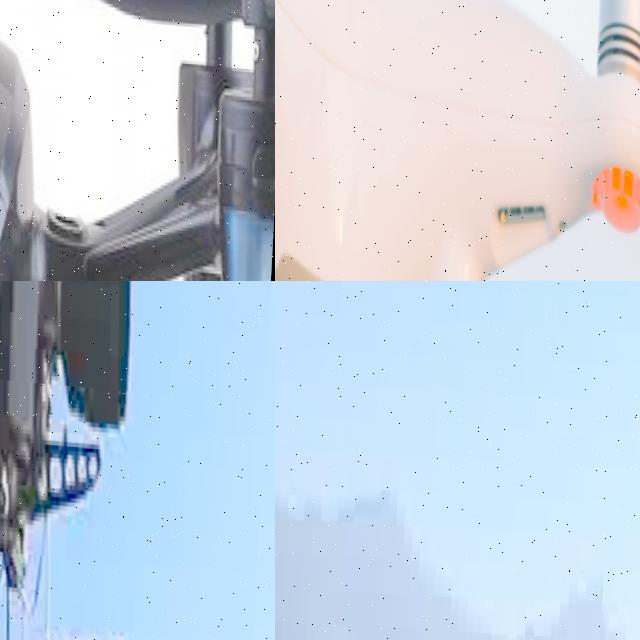drone: (275, 0, 640, 281), (0, 281, 275, 640), (0, 0, 275, 281)
